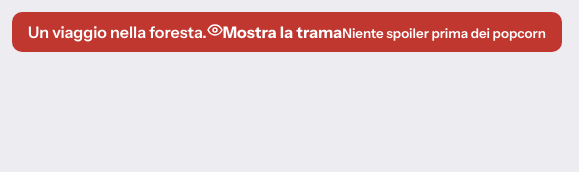
FilmSpoiler › reveals the plot and names the hide control with what it hides
The image size is (579, 172).
Click the button "Mostra la trama".
click(287, 32)  # box x1=12 y1=12 x2=562 y2=52
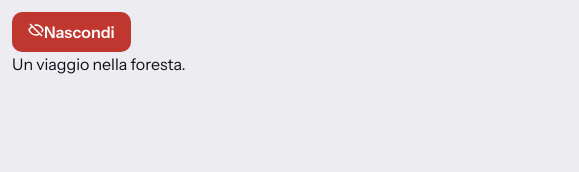
expect the text "Un viaggio nella foresta." is shown: met, box x1=12 y1=54 x2=186 y2=74
expect the button named "Nascondi la trama" is expanded: met, box x1=12 y1=12 x2=131 y2=52
